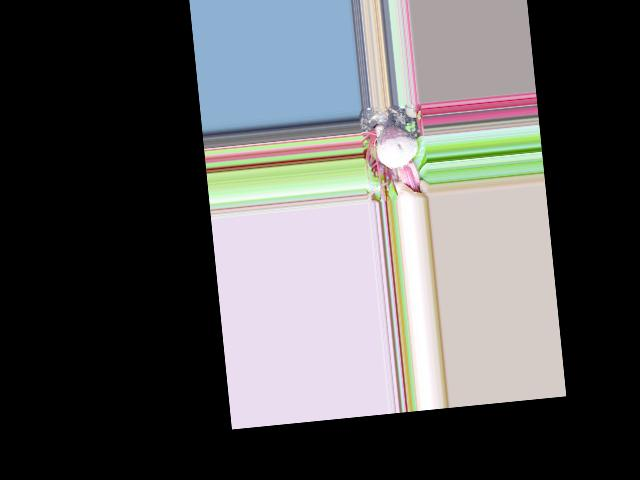beet: (372, 103, 422, 196)
